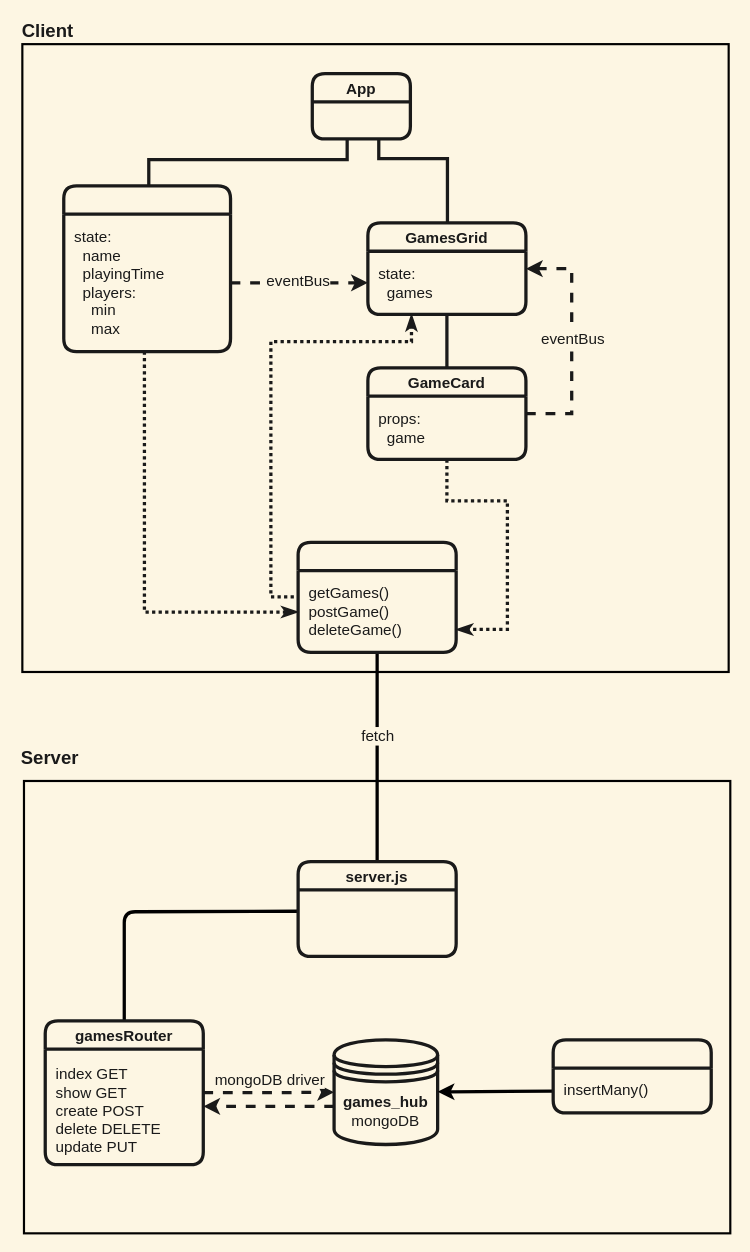
Image size: 750x1252. Some labels were removed from this diagram. Here are the shapes that lost their labels. From the top down, the box of each, then its label:
(62, 184, 232, 353): GameForm
(296, 540, 457, 653): GamesService.js
(551, 1038, 712, 1114): seeds.js
